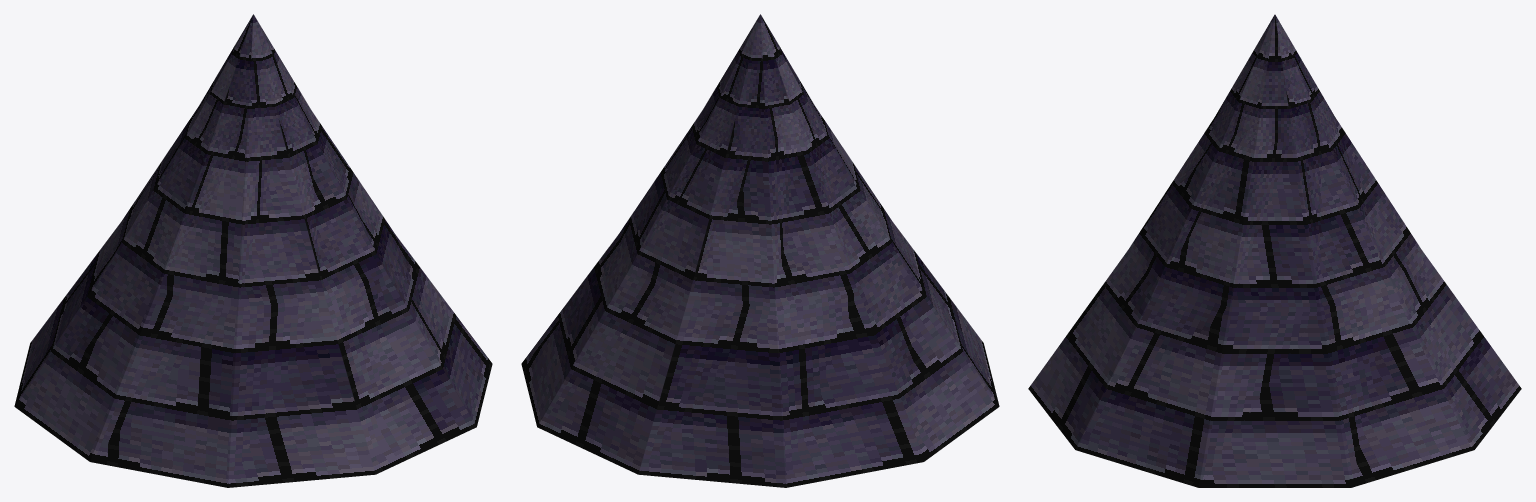
The model's file is telhado_11_guilda_das_sombras.glb.
3 views of the same model, side by side, from view 1: azimuth 30°, elevation 25°; view 2: azimuth 150°, elevation 25°; view 3: azimuth 270°, elevation 25° (orthographic).
Visible parts, largest first — view 1: telhado_11_guilda_das_sombras; view 2: telhado_11_guilda_das_sombras; view 3: telhado_11_guilda_das_sombras.
Part boxes in pixels (x1,y1,x2,y2): telhado_11_guilda_das_sombras: (14, 14, 492, 487); telhado_11_guilda_das_sombras: (521, 14, 999, 487); telhado_11_guilda_das_sombras: (1028, 14, 1521, 487).
Size of the model in its own units: 3.52 by 3.1 by 3.7.
1 material, 1 textured.
